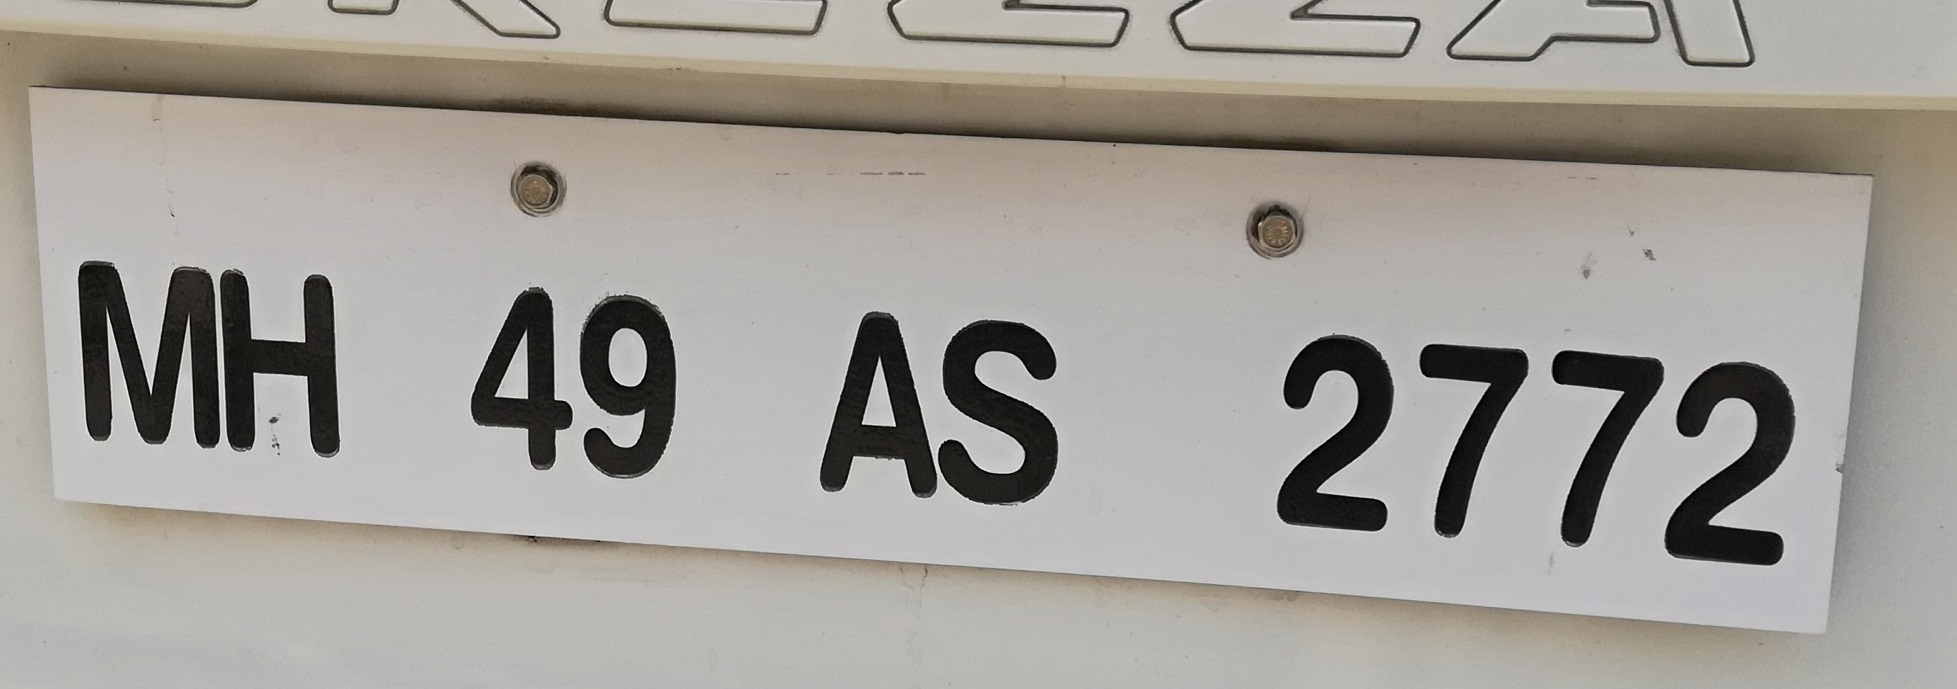numberplate: (23, 78, 1881, 633)
